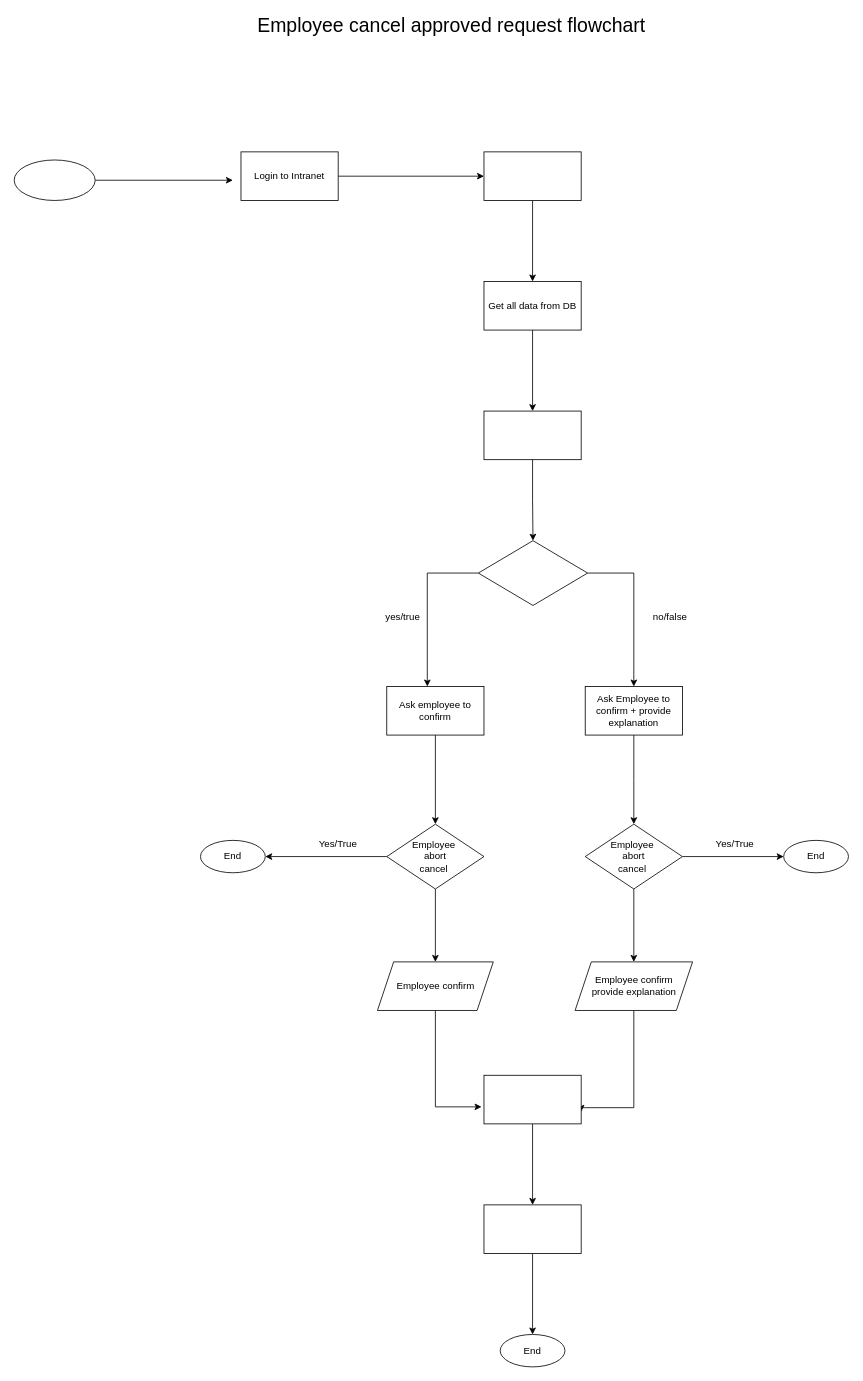
The diagram is 863 pixels wide and 1381 high, and some of its shapes have lost their labels. The centre of each missing label's shape, as x and y in pixels:
Employee select approved request to cancel: point 532,435
Is request in future: point 532,572
Redirected to VTS: point 532,175
Send email to manager through email service: point 532,1228
Start: point 54,179
Update request status to canceled + Update balance: point 532,1099
